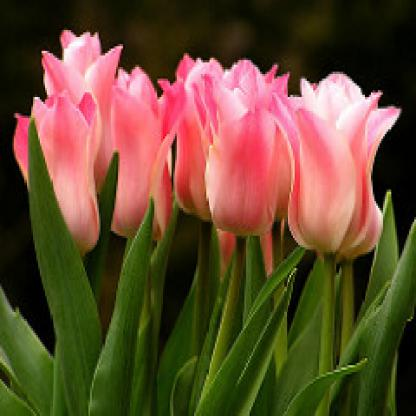TULIP: (15, 31, 406, 311)
